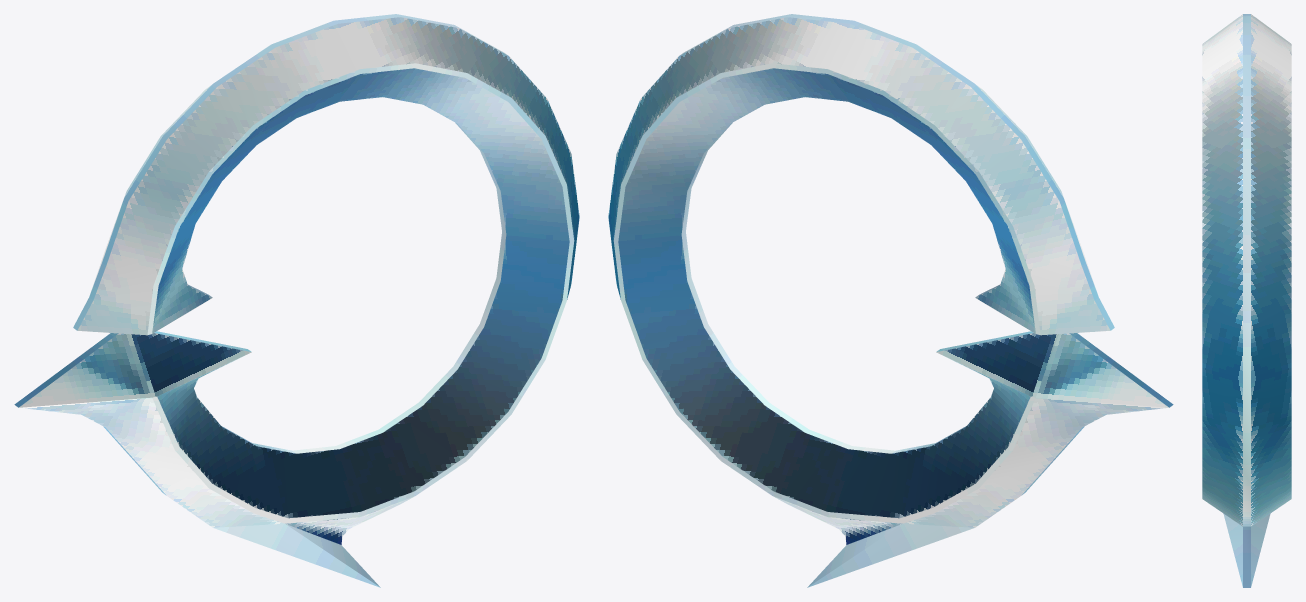
File: ps2_save-icons_guisardrevolution-bokurawaomoiominimatou.glb
3 views of the same model, side by side, from view 1: azimuth 30°, elevation 25°; view 2: azimuth 150°, elevation 25°; view 3: azimuth 270°, elevation 25° (orthographic). The views are drawn at different scales.
Visible parts, largest first — view 1: icon.ico; view 2: icon.ico; view 3: icon.ico.
Boxes of the visible parts, x1,y1,x2,y2 form: icon.ico: [14, 14, 579, 587]; icon.ico: [608, 14, 1173, 587]; icon.ico: [1202, 14, 1291, 587].
Bounding box in the file's own units: 4.24 × 4.15 × 0.6326.
1 material, 1 textured.
